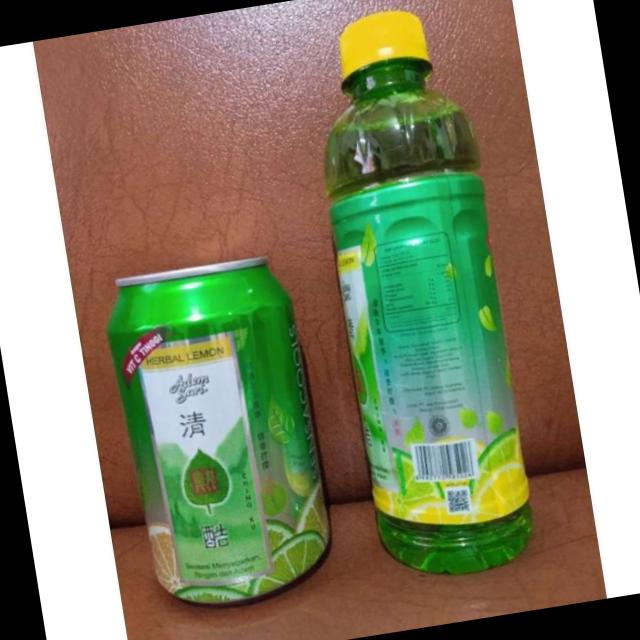ademsarikaleng: (96, 250, 342, 620)
